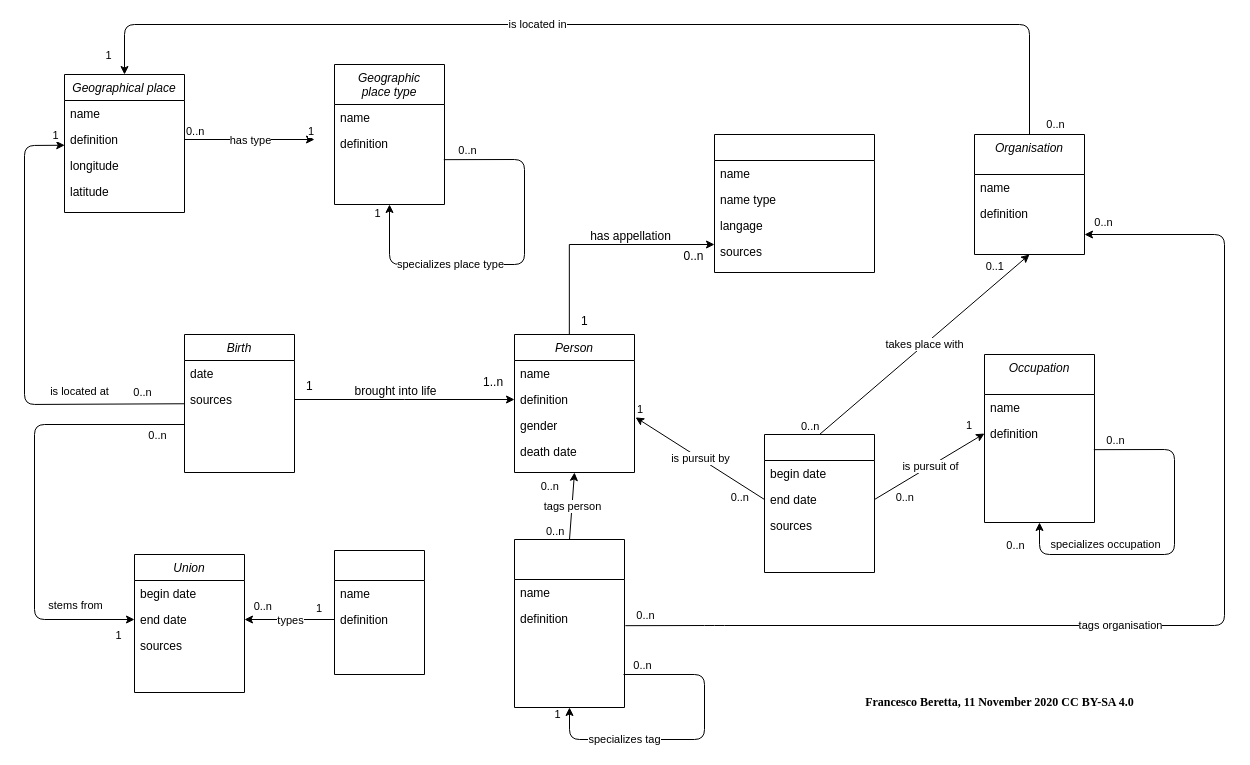
The diagram is 1250 pixels wide and 765 high, and some of its shapes have lost their labels. The box of each missing label's shape, as (x1, y1, x2, y2) in pixels:
Appellation: (714, 134, 874, 272)
Pursuit: (764, 434, 874, 572)
Tag: (514, 538, 624, 708)
Union type: (334, 550, 424, 674)
